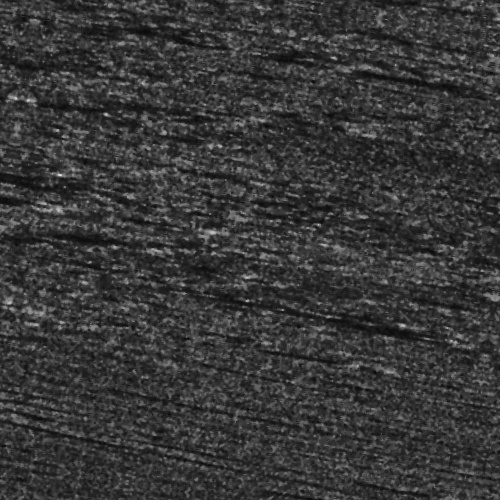object: (433, 300, 474, 307), (449, 51, 500, 56)
shadow: (278, 300, 454, 307), (352, 51, 475, 56)
